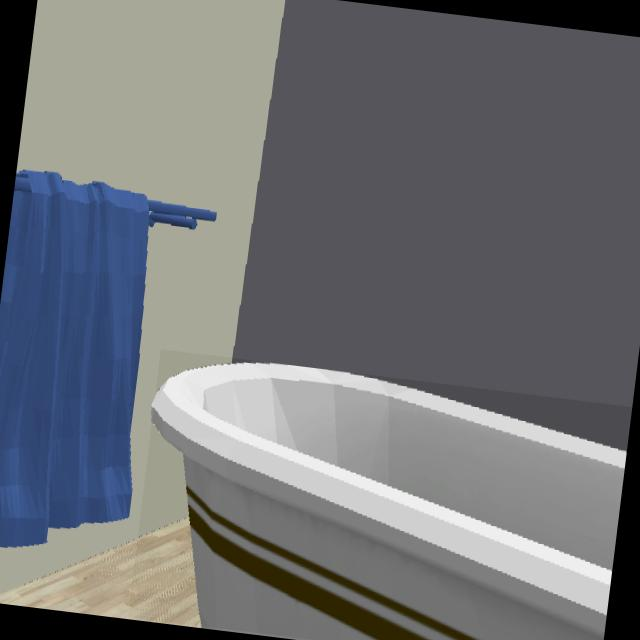bathtube: (152, 364, 625, 640)
